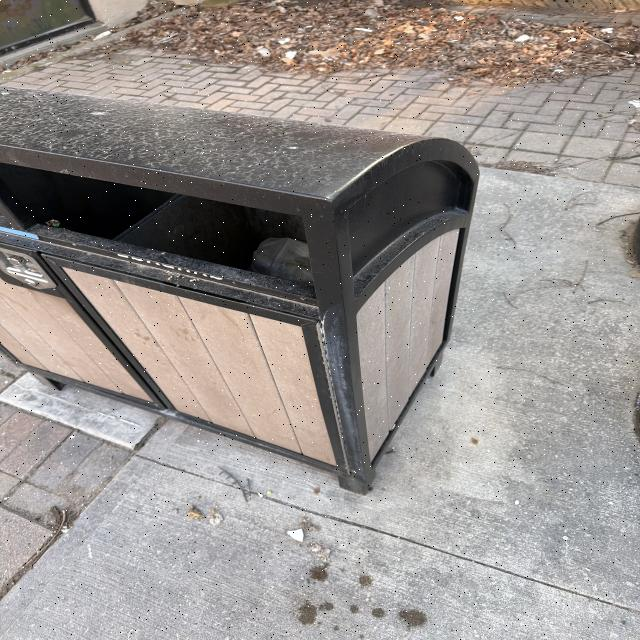Dustbin: (0, 84, 482, 493)
